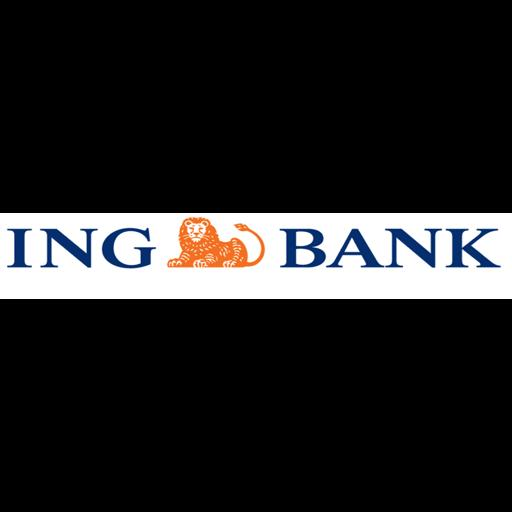ING: (0, 213, 512, 299)
